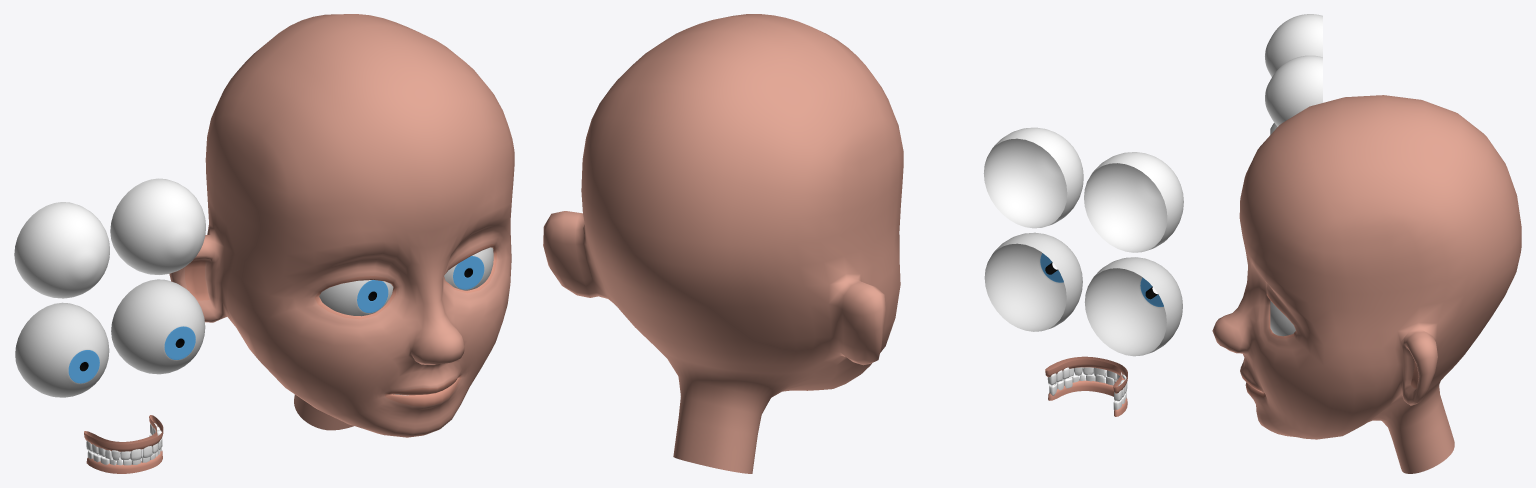
Rendered from original-head.glb.
3 views of the same model, side by side, from view 1: azimuth 30°, elevation 25°; view 2: azimuth 150°, elevation 25°; view 3: azimuth 270°, elevation 25° (orthographic). The views are drawn at different scales.
Parts seen in each view (by area): view 1: body_0, cornea.001_12, pupil.001_13, pupil_5, upper_gum.001_10, upper_teeth.001_11, bottom_gum.001_8; view 2: body_0, cornea.001_12, pupil.001_13, upper_gum.001_10, upper_teeth.001_11, bottom_gum.001_8, bottom_teeth.001_9; view 3: body_0, cornea.001_12, pupil_5.
Part boxes in pixels (x1,y1,x2,y2): body_0: [169, 14, 514, 437]; cornea.001_12: [14, 178, 205, 298]; pupil.001_13: [15, 279, 205, 397]; pupil_5: [319, 247, 493, 316]; upper_gum.001_10: [84, 415, 163, 451]; upper_teeth.001_11: [86, 423, 162, 460]; bottom_gum.001_8: [86, 446, 162, 473]; body_0: [543, 14, 903, 473]; cornea.001_12: [983, 127, 1183, 252]; pupil.001_13: [984, 232, 1182, 356]; upper_gum.001_10: [1045, 356, 1127, 393]; upper_teeth.001_11: [1047, 367, 1127, 401]; bottom_gum.001_8: [1048, 380, 1127, 416]; bottom_teeth.001_9: [1049, 374, 1126, 410]; body_0: [1212, 95, 1521, 473]; cornea.001_12: [1265, 14, 1322, 126]; pupil_5: [1270, 300, 1295, 336].
Bounding box in the file's own units: 1.89 × 1.36 × 1.06.
